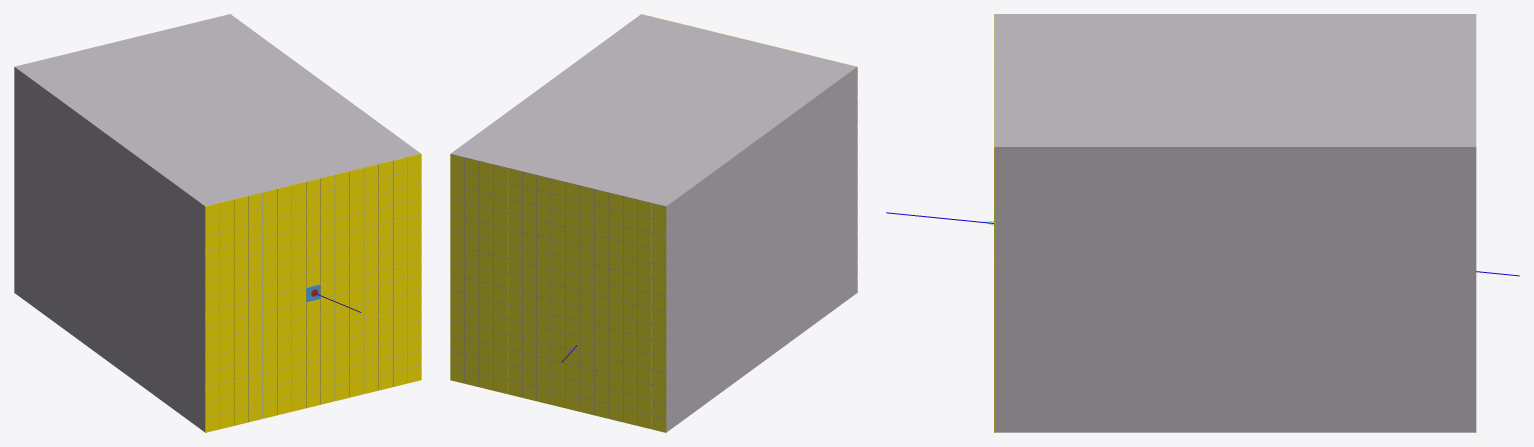
Rendered from calo_shower_back_only.glb.
3 views of the same model, side by side, from view 1: azimuth 30°, elevation 25°; view 2: azimuth 150°, elevation 25°; view 3: azimuth 270°, elevation 25° (orthographic). The views are drawn at different scales.
Visible parts, largest first — view 1: Module, ECAL front; view 2: Module, ECALmiddle; view 3: Module.
Boxes of the visible parts, box(x1,y1,x2,y2) form: Module: box(14, 14, 421, 431); ECAL front: box(205, 153, 421, 432); Module: box(450, 14, 857, 432); ECALmiddle: box(450, 154, 666, 432); Module: box(994, 14, 1476, 432).
Bounding box in the file's own units: 31.45 × 31.42 × 63.08.
